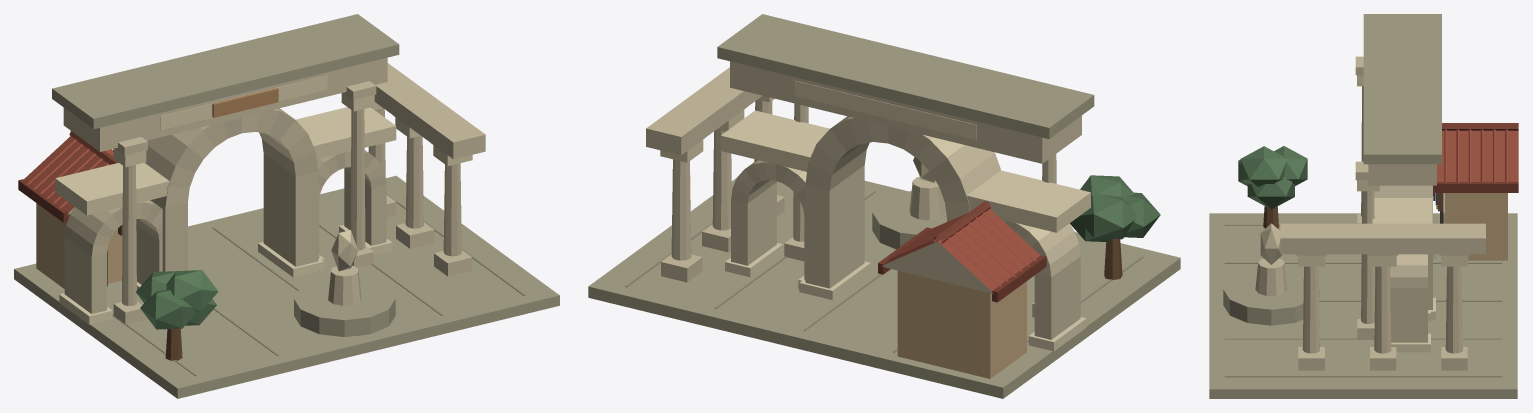
3 renders of one model, left to right at view 1: azimuth 30°, elevation 25°; view 2: azimuth 150°, elevation 25°; view 3: azimuth 270°, elevation 25°, orthographic. The views are drawn at different scales.
Visible parts, largest first — view 1: S21_古罗马城 · 拱廊广场; view 2: S21_古罗马城 · 拱廊广场; view 3: S21_古罗马城 · 拱廊广场.
Boxes of the visible parts, x1=… form: S21_古罗马城 · 拱廊广场: x1=14, y1=14, x2=559, y2=398; S21_古罗马城 · 拱廊广场: x1=588, y1=14, x2=1180, y2=398; S21_古罗马城 · 拱廊广场: x1=1209, y1=14, x2=1518, y2=398.
Bounding box in the file's own units: 4.3 × 2.35 × 3.16.
